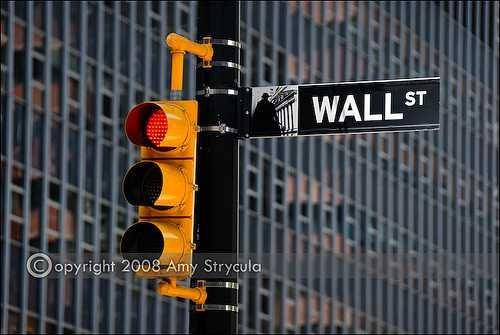red: (122, 97, 196, 281)
